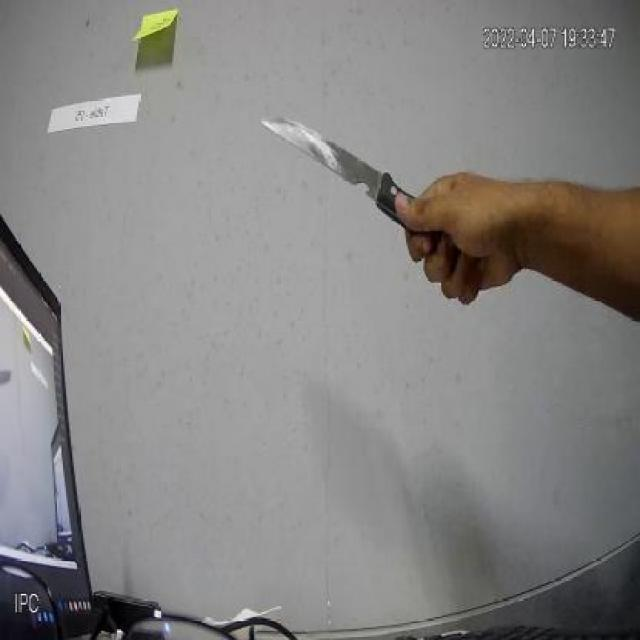-: (254, 100, 478, 291)
